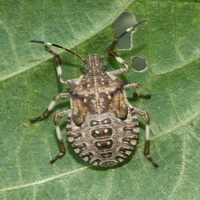insect: (29, 12, 157, 166), (49, 45, 84, 80)
